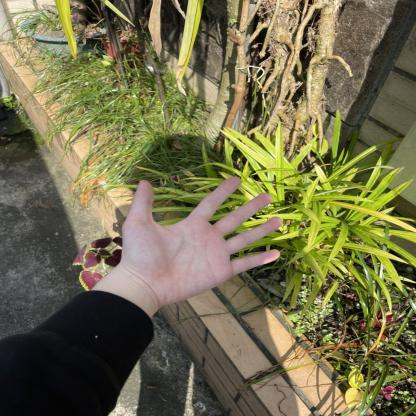bare_hand: (109, 165, 298, 304)
